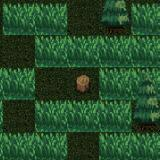Obstacle: (99, 2, 131, 35), (67, 67, 98, 100), (132, 99, 160, 132)
Slow: (35, 35, 160, 67), (35, 100, 131, 132), (99, 67, 160, 100), (3, 3, 67, 34), (0, 133, 67, 160), (99, 131, 160, 160), (0, 68, 35, 100), (131, 2, 160, 35)
